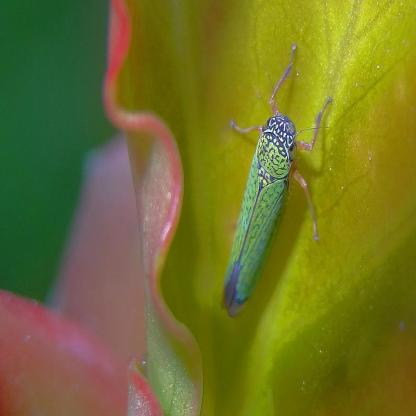Green-Leafhopper: (218, 40, 332, 323)
